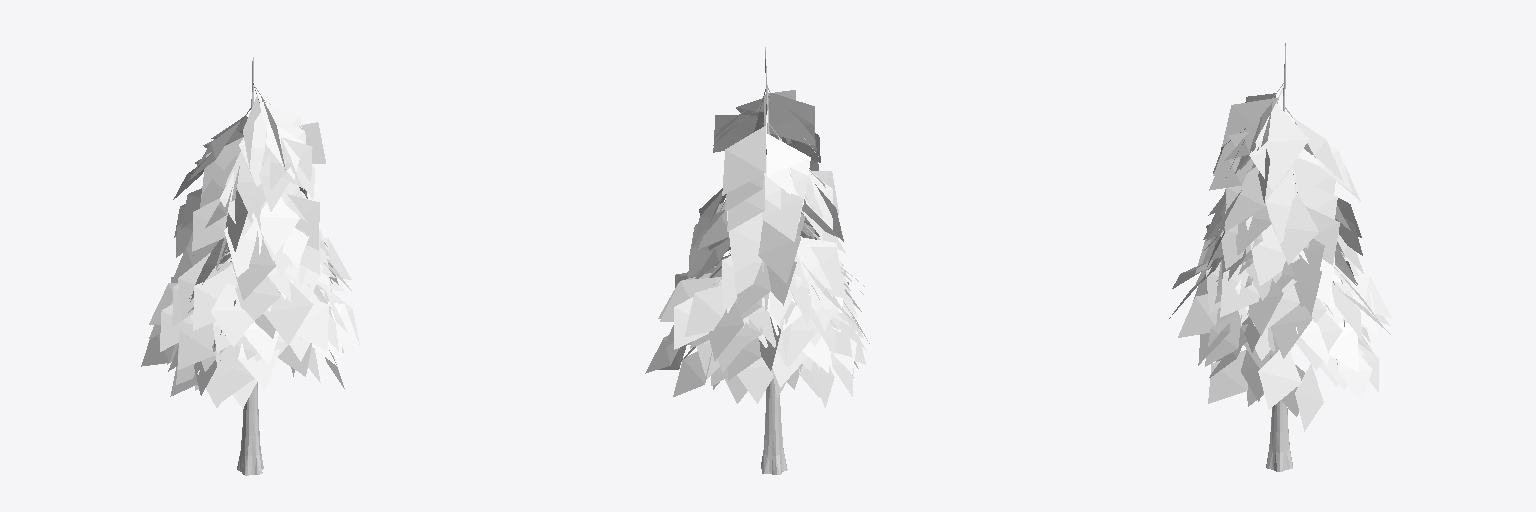
File: pine_tree_v1.obj
3 views of the same model, side by side, from view 1: azimuth 30°, elevation 25°; view 2: azimuth 150°, elevation 25°; view 3: azimuth 270°, elevation 25° (orthographic).
Visible parts, largest first — view 1: tree; view 2: tree; view 3: tree.
Part boxes in pixels (bbox=[...]): tree: bbox=[141, 57, 360, 475]; tree: bbox=[645, 47, 869, 474]; tree: bbox=[1169, 43, 1391, 471].
Bounding box in the file's own units: 168 × 350 × 168.